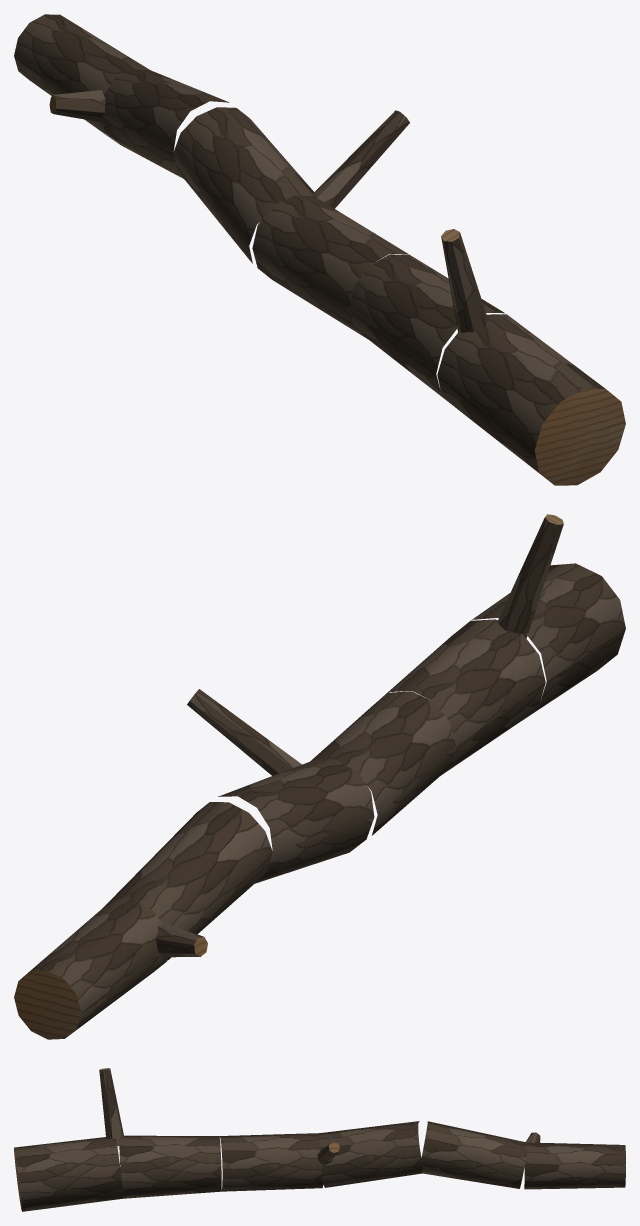
The model's file is log_3.glb.
3 views of the same model, one above another, from view 1: azimuth 30°, elevation 25°; view 2: azimuth 150°, elevation 25°; view 3: azimuth 270°, elevation 25° (orthographic). The views are drawn at different scales.
Visible parts, largest first — view 1: X_log3; view 2: X_log3; view 3: X_log3.
Part boxes in pixels (box(x1,y1,x2,y2)): X_log3: box(14, 14, 625, 485); X_log3: box(14, 514, 625, 1039); X_log3: box(14, 1068, 625, 1211).
Size of the model in its own units: 0.7551 by 0.8328 by 3.68.
Materials: 2 (2 with a texture image).
